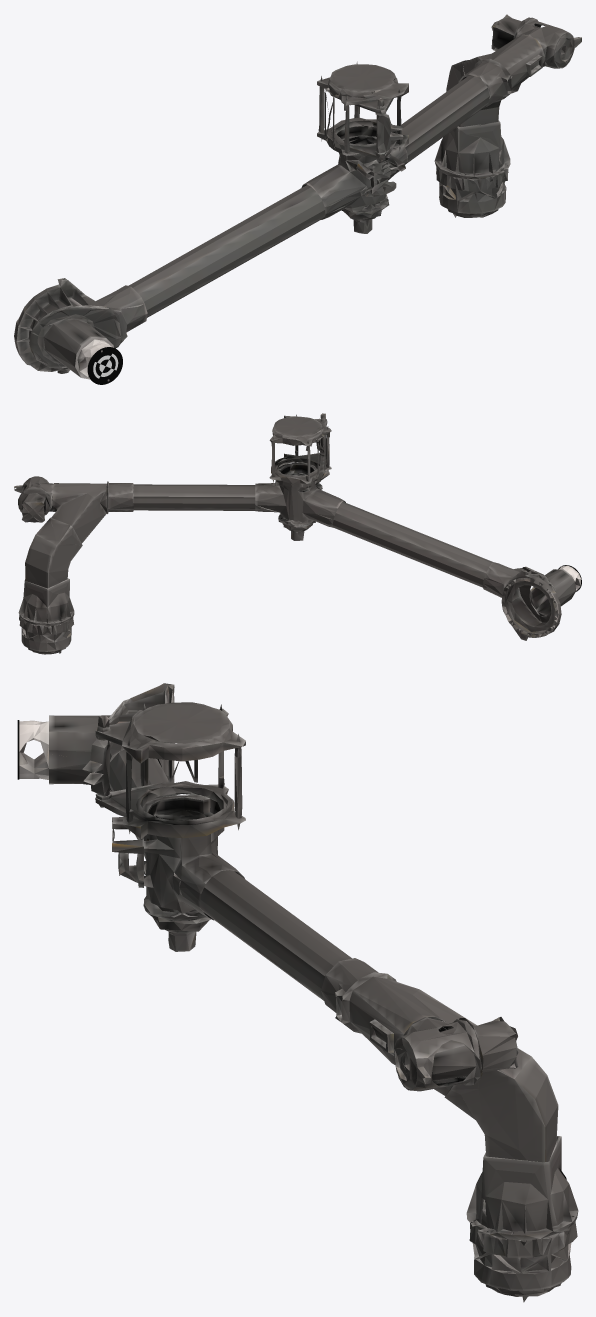
File: Right_Bogie.gltf
The picture shows the model from 3 angles, top to bottom: view 1: azimuth 30°, elevation 25°; view 2: azimuth 150°, elevation 25°; view 3: azimuth 270°, elevation 25°; orthographic projection. The views are drawn at different scales.
Visible parts, largest first — view 1: Mesh_0; view 2: Mesh_0; view 3: Mesh_0.
Boxes of the visible parts, x1,y1,x2,y2 form: Mesh_0: (14,14,581,384); Mesh_0: (14,413,581,654); Mesh_0: (17,683,578,1302).
Bounding box in the file's own units: 1.31 × 0.5249 × 0.6587.
1 material, 1 textured.
